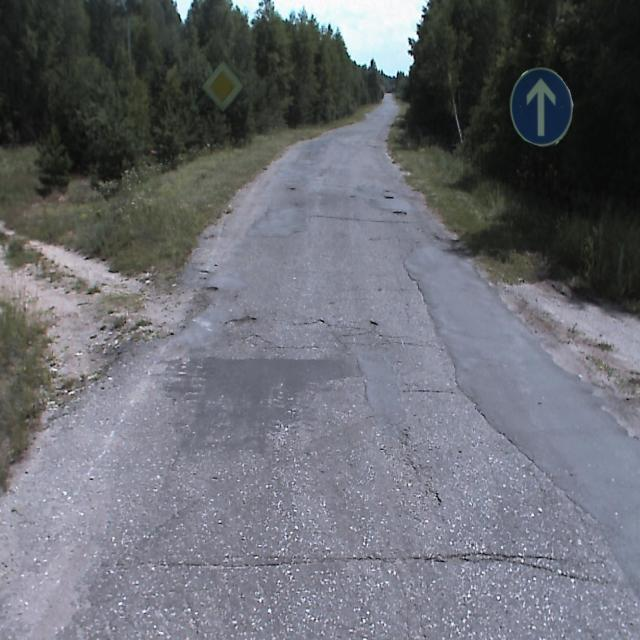road: (0, 93, 639, 639)
